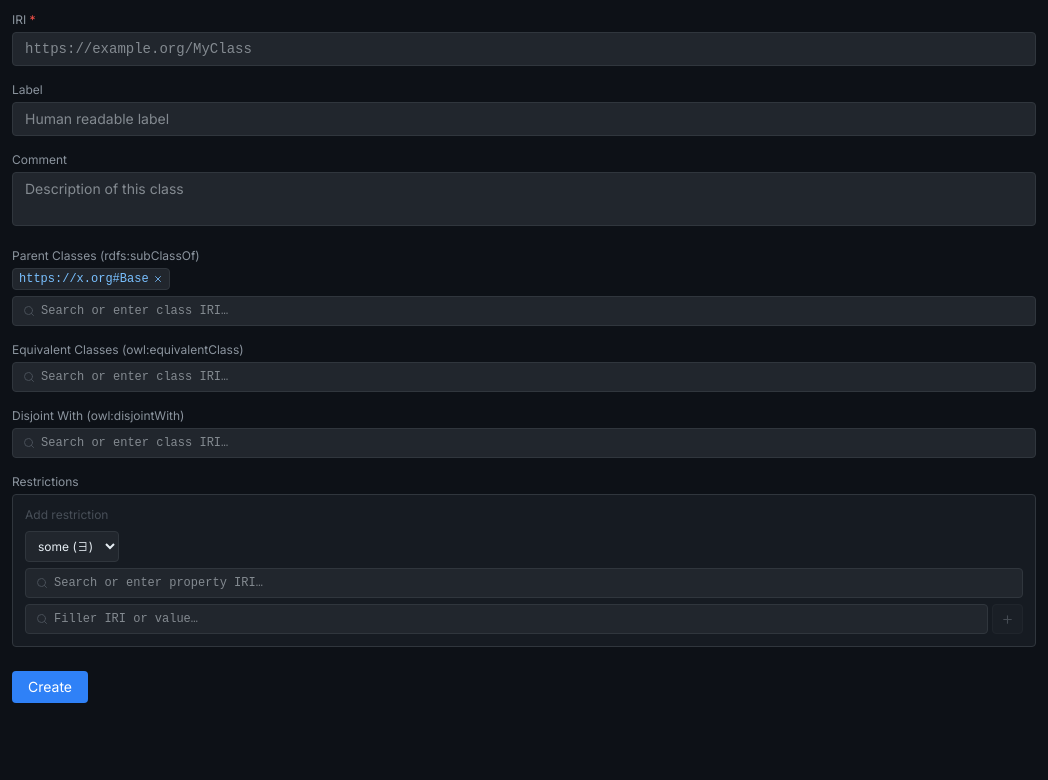
Test: ConceptForm — IRIListSearchInput (superClasses / equivalentClasses / disjointWith) › removes a tag using its × button
expect the text "https://x.org#Base" is shown: met, box [19,271,149,287]
// the × button is the sibling of the text span inside the chip wrapper
Click the button without text next to "https://x.org#Base" at (158, 279), box [153,274,163,284]
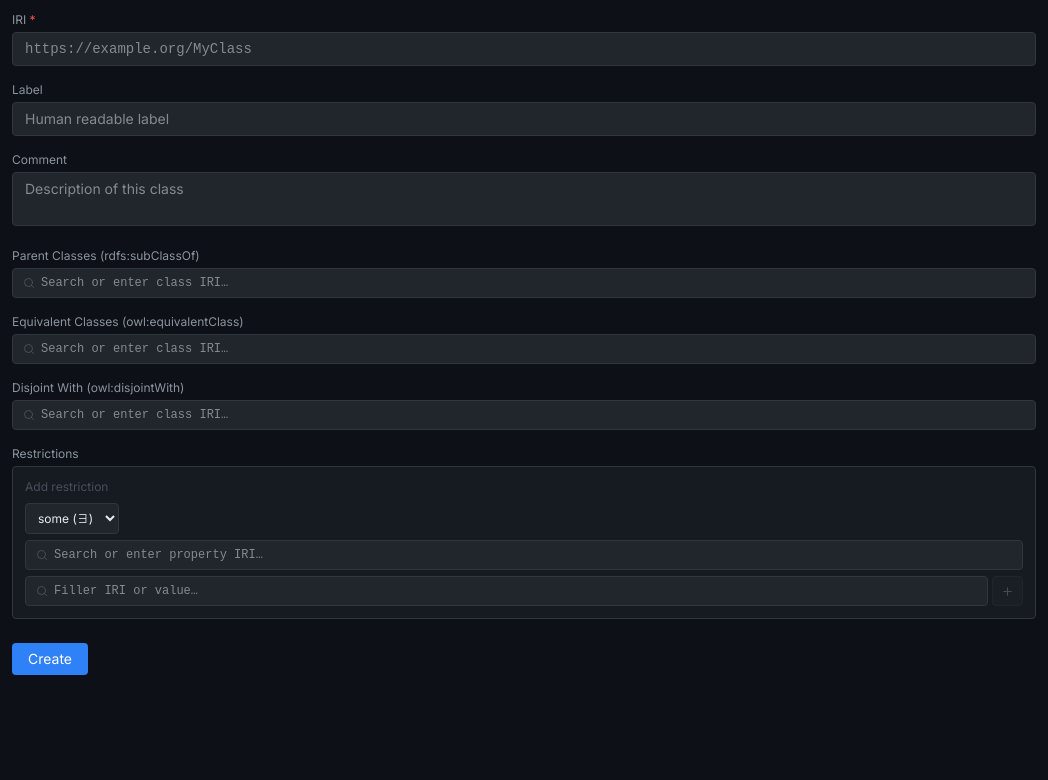
expect the text "https://x.org#Base" is gone: met
